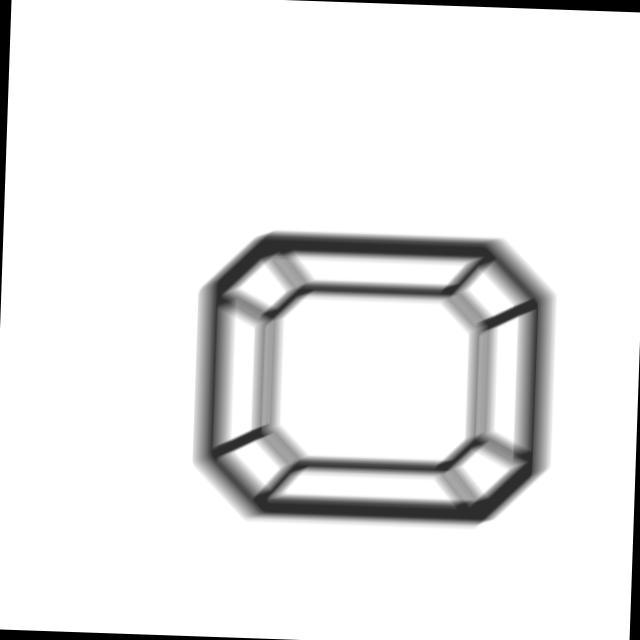emerald: (185, 220, 565, 538)
